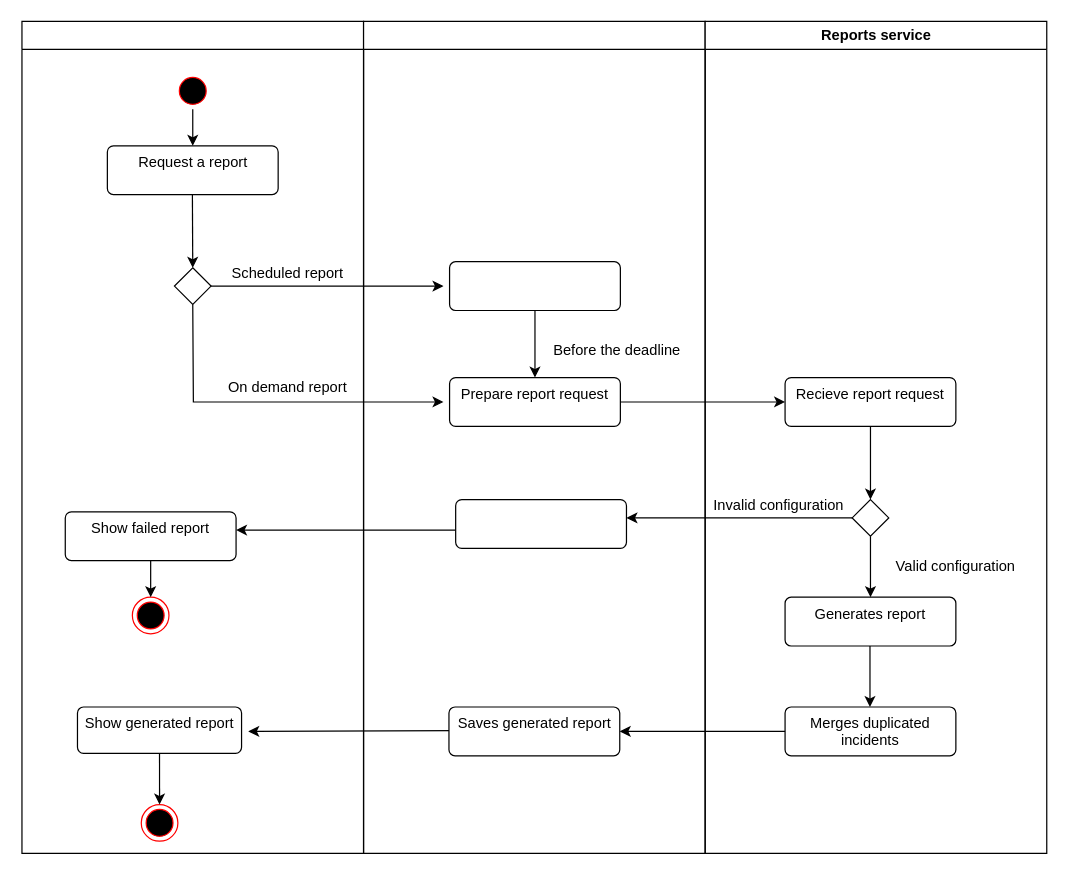
This 1068x875 diagram has some shape labels left out. The box of each missing label's shape, as (x1, y1, x2, y2) in pixels:
Management service: (362, 20, 705, 853)
Mark pending report as failed: (454, 498, 626, 548)
Schedule report: (448, 260, 620, 310)
Web client: (21, 20, 364, 853)
